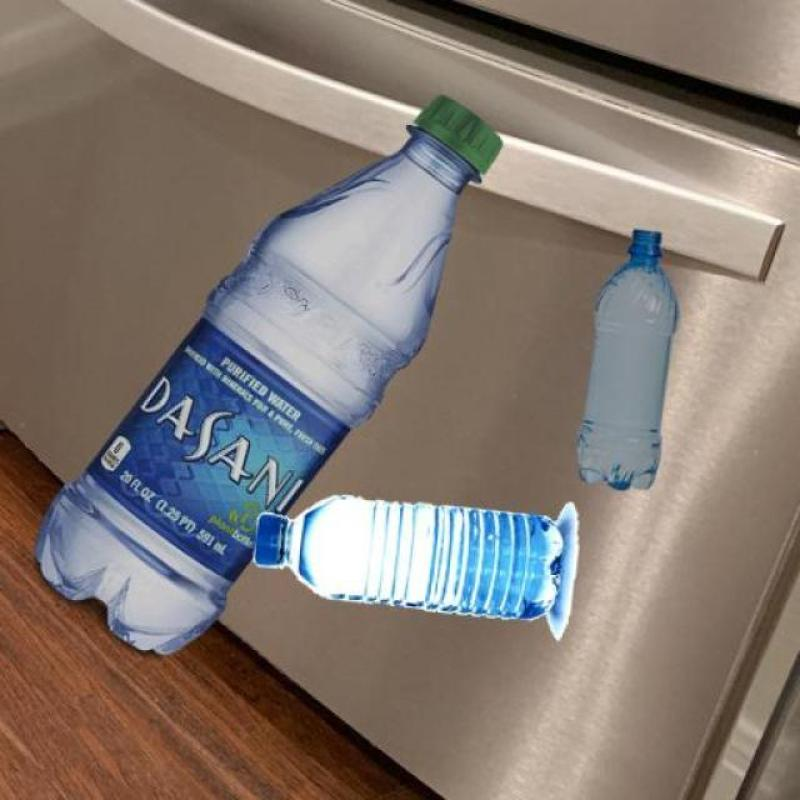botella: (31, 96, 505, 659), (254, 494, 564, 626), (576, 229, 680, 490)
